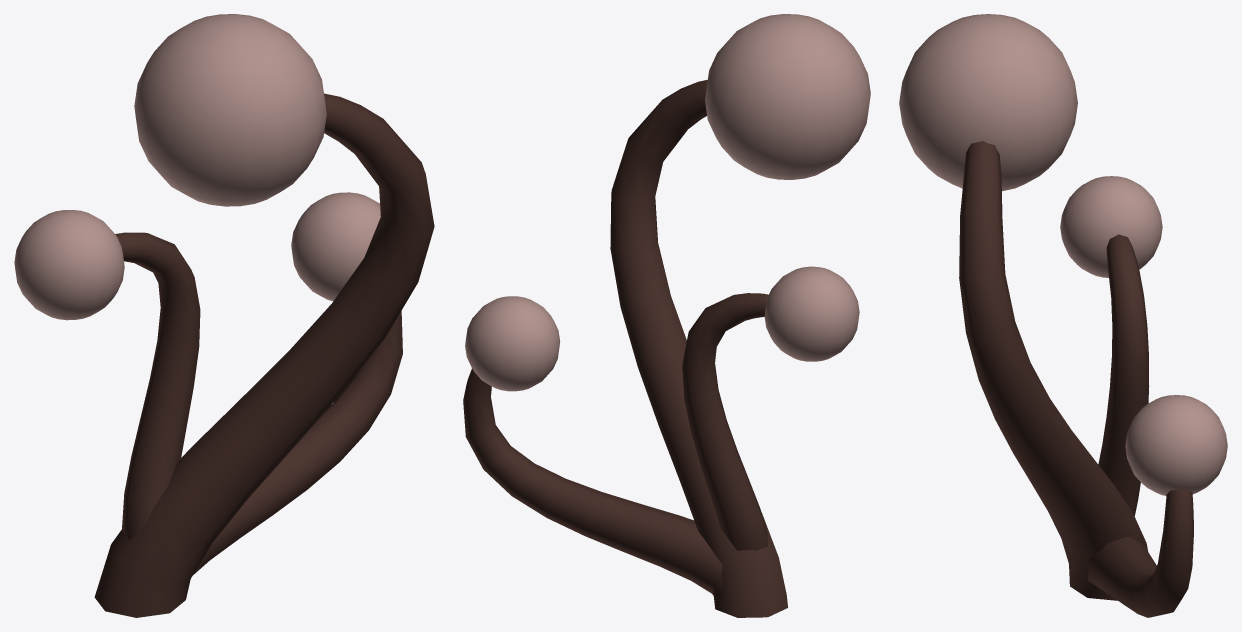
Rendered from decor-treelight.glb.
The picture shows the model from 3 angles, left to right: view 1: azimuth 30°, elevation 25°; view 2: azimuth 150°, elevation 25°; view 3: azimuth 270°, elevation 25°; orthographic projection. The views are drawn at different scales.
Parts seen in each view (by area): view 1: Tree_Light_1; view 2: Tree_Light_1; view 3: Tree_Light_1.
Part boxes in pixels (x1,y1,x2,y2): Tree_Light_1: (14,14,434,617); Tree_Light_1: (463,14,870,617); Tree_Light_1: (899,14,1227,617).
Size of the model in its own units: 2.8 by 4 by 2.08.
Materials: 1 (1 with a texture image).
